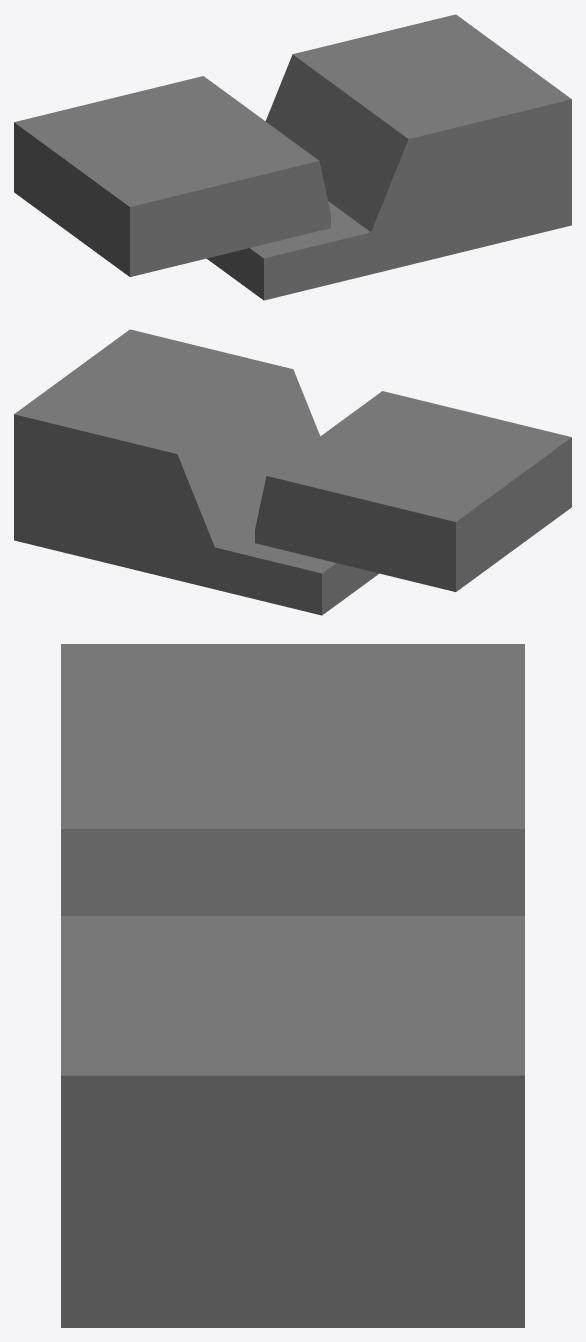
The model's file is С20_Кромки.glb.
3 renders of one model, top to bottom at view 1: azimuth 30°, elevation 25°; view 2: azimuth 150°, elevation 25°; view 3: azimuth 270°, elevation 25°, orthographic. The views are drawn at different scales.
Parts seen in each view (by area): view 1: node_id3; view 2: node_id3; view 3: node_id3.
Boxes of the visible parts, box(x1,y1,x2,y2) form: node_id3: box(14, 14, 571, 300); node_id3: box(14, 329, 571, 615); node_id3: box(61, 644, 524, 1327).
Size of the model in its own units: 0.512 by 0.1396 by 0.2327.
Materials: 1 (1 with a texture image).
